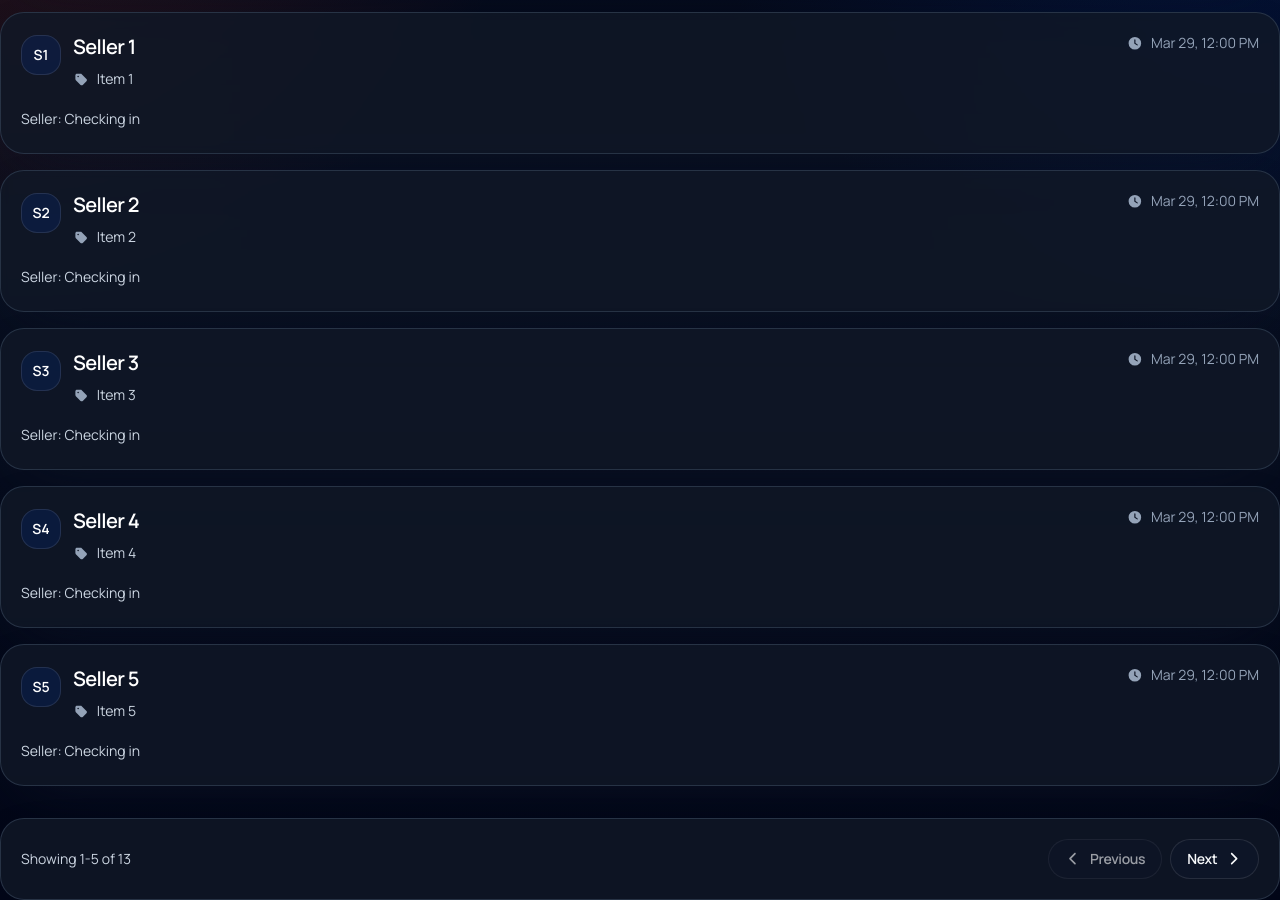
it: conversation previews paginate in groups of five
(page scrolled)
Expected: the text "Showing 1-5 of 13" is shown, [21,849,131,869]
Click the button "Next": (1215, 859) [1170,839,1259,879]
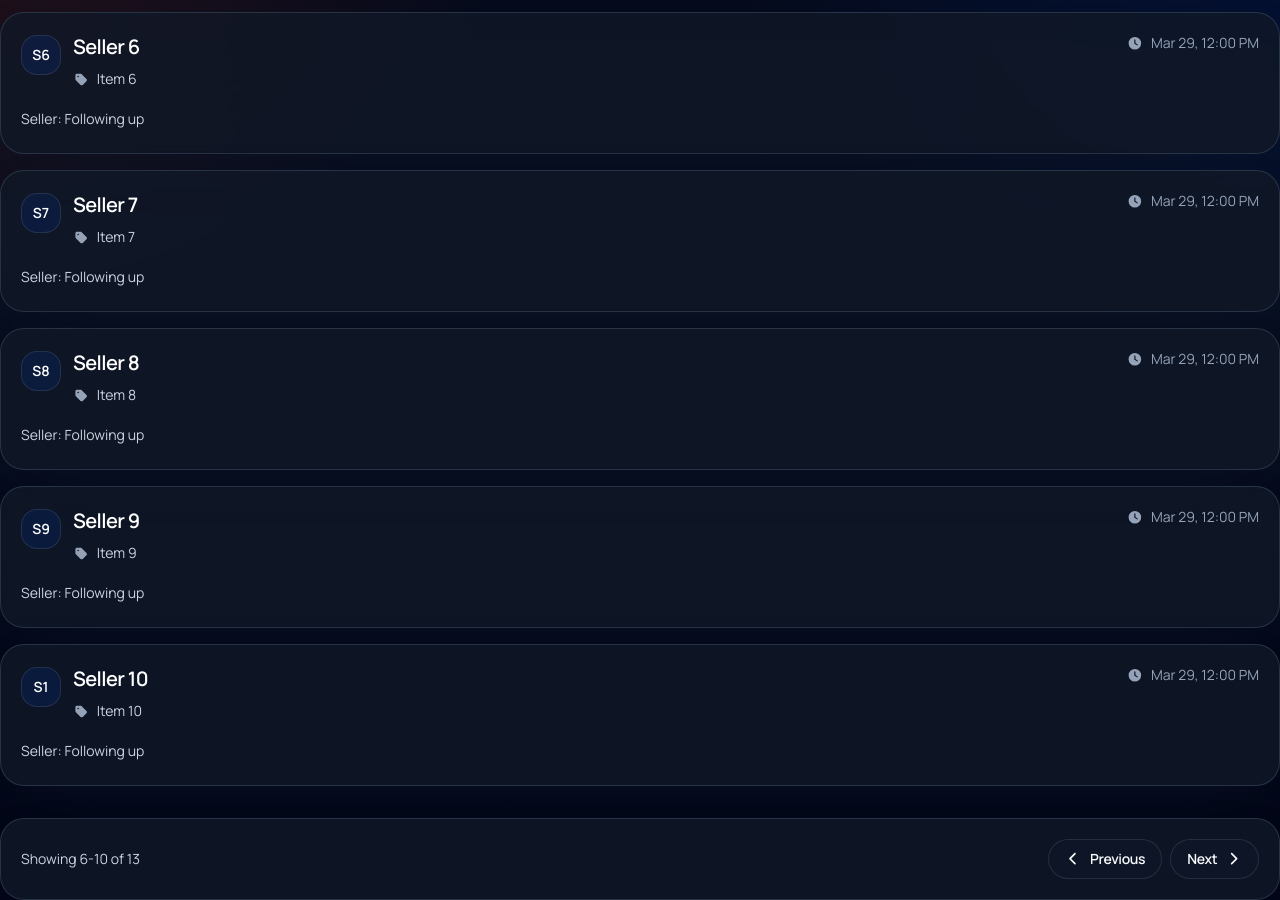
Expected: the text "Showing 6-10 of 13" is shown, [21,849,140,869]
